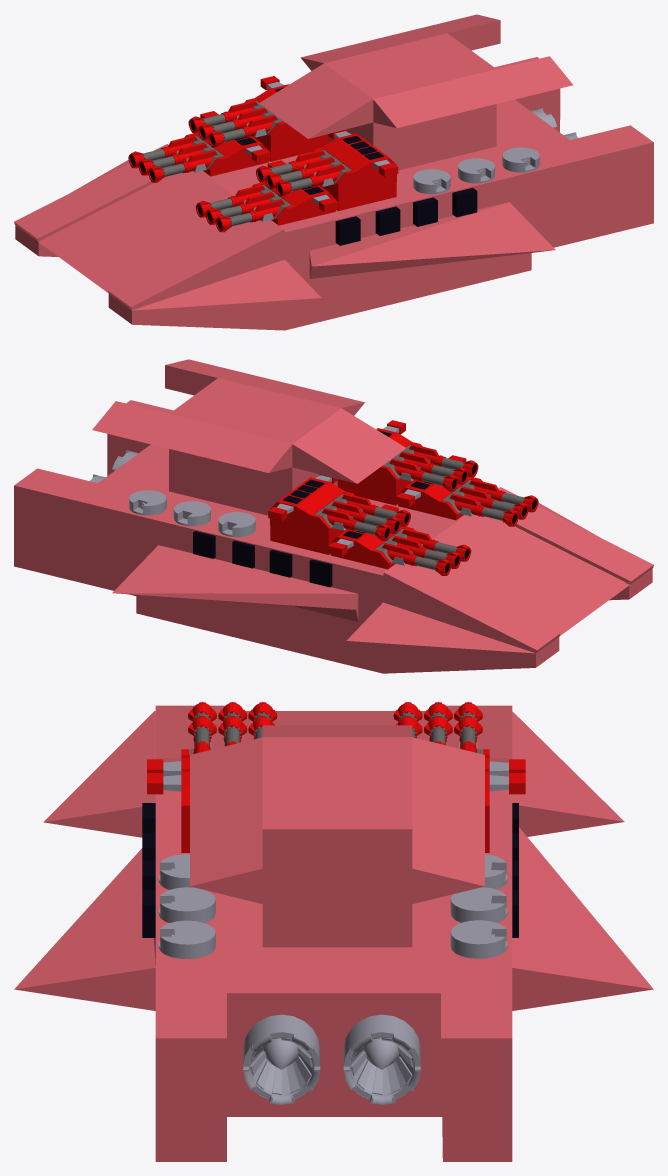
Rendered from Player.fbx.
The picture shows the model from 3 angles, top to bottom: view 1: azimuth 30°, elevation 25°; view 2: azimuth 150°, elevation 25°; view 3: azimuth 270°, elevation 25°; orthographic projection. The views are drawn at different scales.
Visible parts, largest first — view 1: PlayerSentaiColor, pCylinder100, pCylinder98, pCylinder97, pCylinder99, pCube171, polySurface2445, polySurface2437, polySurface2442; view 2: PlayerSentaiColor, pCylinder98, pCylinder100, pCylinder99, pCylinder97, pCube171, polySurface2449, polySurface2450, polySurface2448; view 3: PlayerSentaiColor, enziin5, enziin4, pCylinder100, pCube171, pCylinder98, polySurface2448, polySurface2445, pCylinder99, pCylinder97, polySurface2442, polySurface2449 (+2 smaller).
Part boxes in pixels (<box>): PlayerSentaiColor: <box>14,14,653,330</box>; pCylinder100: <box>256,129,398,210</box>; pCylinder98: <box>188,76,329,161</box>; pCylinder97: <box>128,111,270,182</box>; pCylinder99: <box>195,160,337,232</box>; pCube171: <box>335,187,477,245</box>; polySurface2445: <box>502,147,539,172</box>; polySurface2437: <box>413,169,450,194</box>; polySurface2442: <box>458,158,494,183</box>; PlayerSentaiColor: <box>14,359,653,673</box>; pCylinder98: <box>268,474,410,554</box>; pCylinder100: <box>337,420,478,505</box>; pCylinder99: <box>396,455,538,526</box>; pCylinder97: <box>328,504,471,575</box>; pCube171: <box>193,531,332,587</box>; polySurface2449: <box>173,501,210,526</box>; polySurface2450: <box>218,512,255,537</box>; polySurface2448: <box>129,490,166,515</box>; PlayerSentaiColor: <box>14,705,653,1161</box>; enziin5: <box>343,1014,420,1104</box>; enziin4: <box>243,1014,320,1104</box>; pCylinder100: <box>147,716,275,852</box>; pCube171: <box>142,803,518,937</box>; pCylinder98: <box>395,716,525,852</box>; polySurface2448: <box>450,920,507,958</box>; polySurface2445: <box>158,920,215,958</box>; pCylinder99: <box>147,702,277,776</box>; pCylinder97: <box>393,702,525,776</box>; polySurface2442: <box>158,887,215,923</box>; polySurface2449: <box>450,887,507,922</box>.
Bounding box in the file's own units: 176 × 56.45 × 122.
